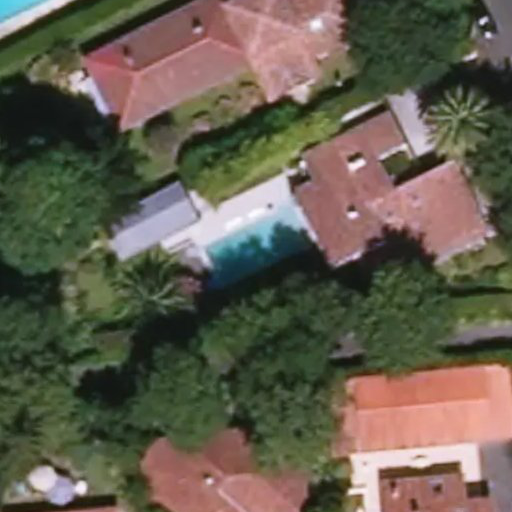pool: (196, 240, 310, 243)
